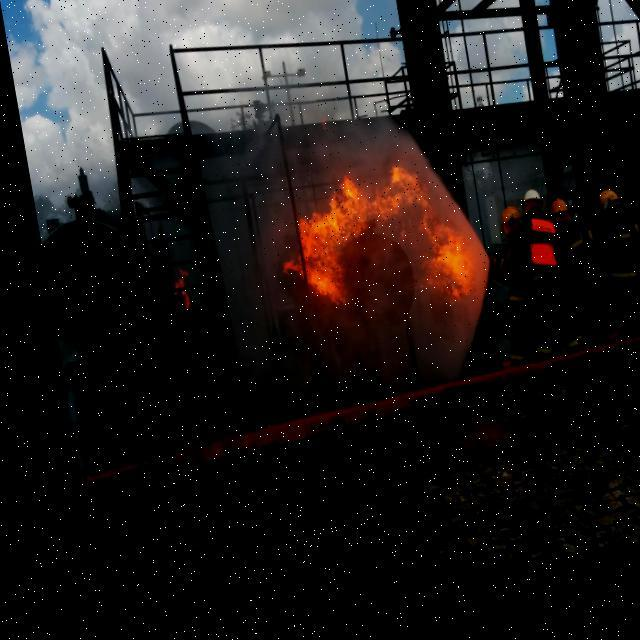Fire: (270, 170, 476, 347), (156, 271, 185, 317)
